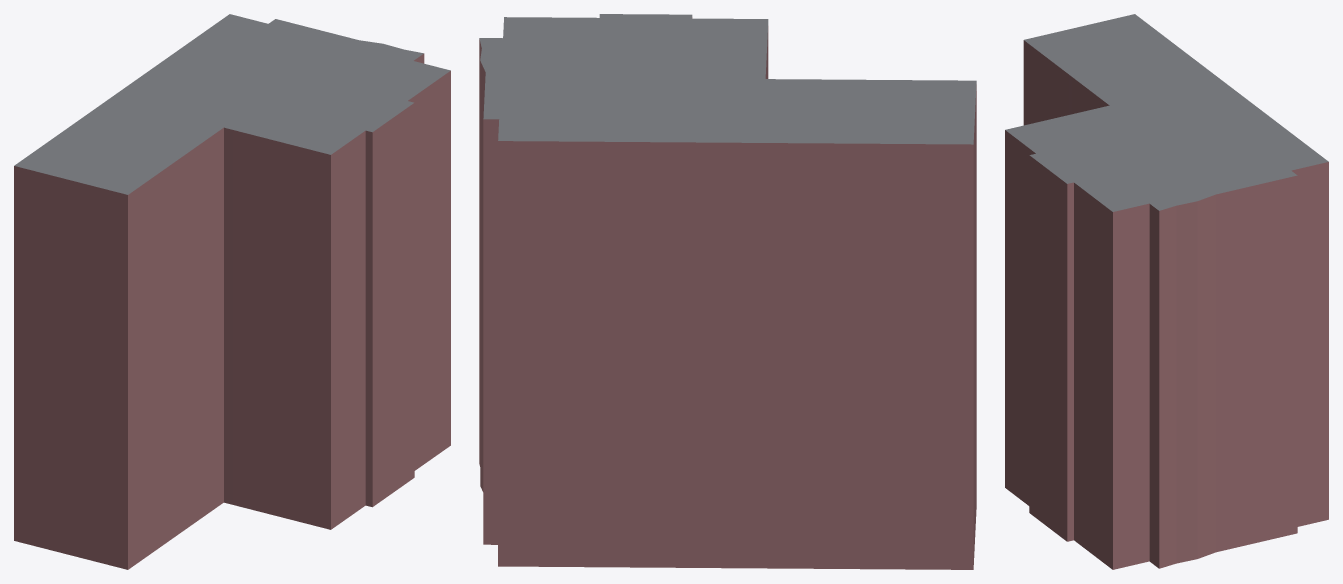
Rendered from nyc-1088760-0.glb.
3 views of the same model, side by side, from view 1: azimuth 30°, elevation 25°; view 2: azimuth 150°, elevation 25°; view 3: azimuth 270°, elevation 25° (orthographic). The views are drawn at different scales.
Parts seen in each view (by area): view 1: nyc-1088760-0; view 2: nyc-1088760-0; view 3: nyc-1088760-0.
Boxes of the visible parts, <box> form: nyc-1088760-0: <box>14,14,450,569</box>; nyc-1088760-0: <box>479,14,976,569</box>; nyc-1088760-0: <box>1005,14,1328,569</box>.
Size of the model in its own units: 113 by 95.1 by 78.01.
